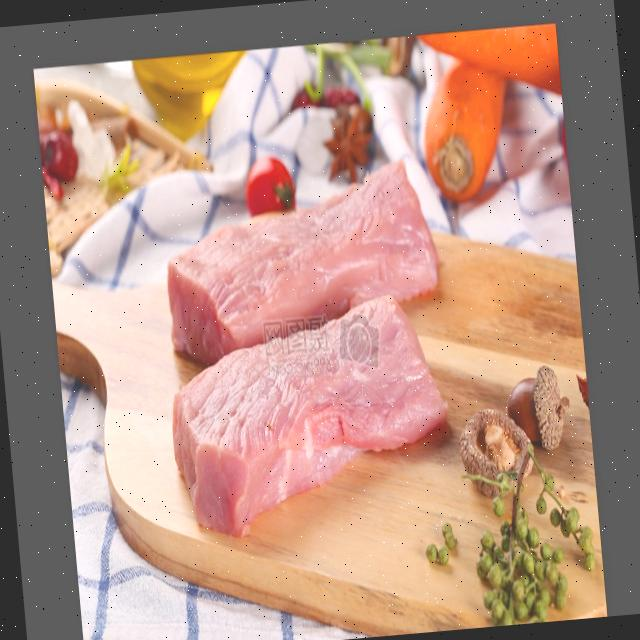meat: (171, 292, 429, 524), (164, 146, 432, 362)
